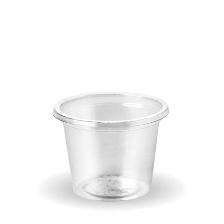glass: (39, 84, 171, 205)
